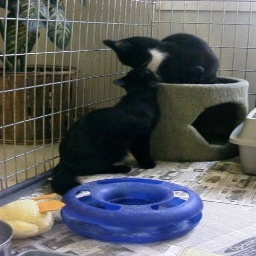cat: (46, 28, 219, 185)
